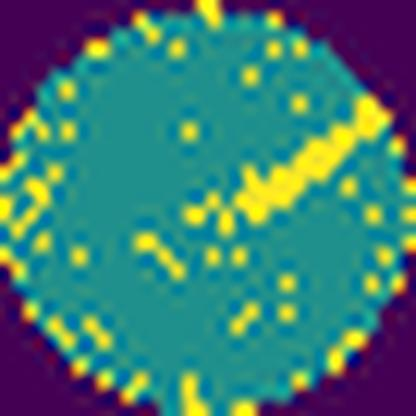Scratch: (228, 96, 393, 228)
